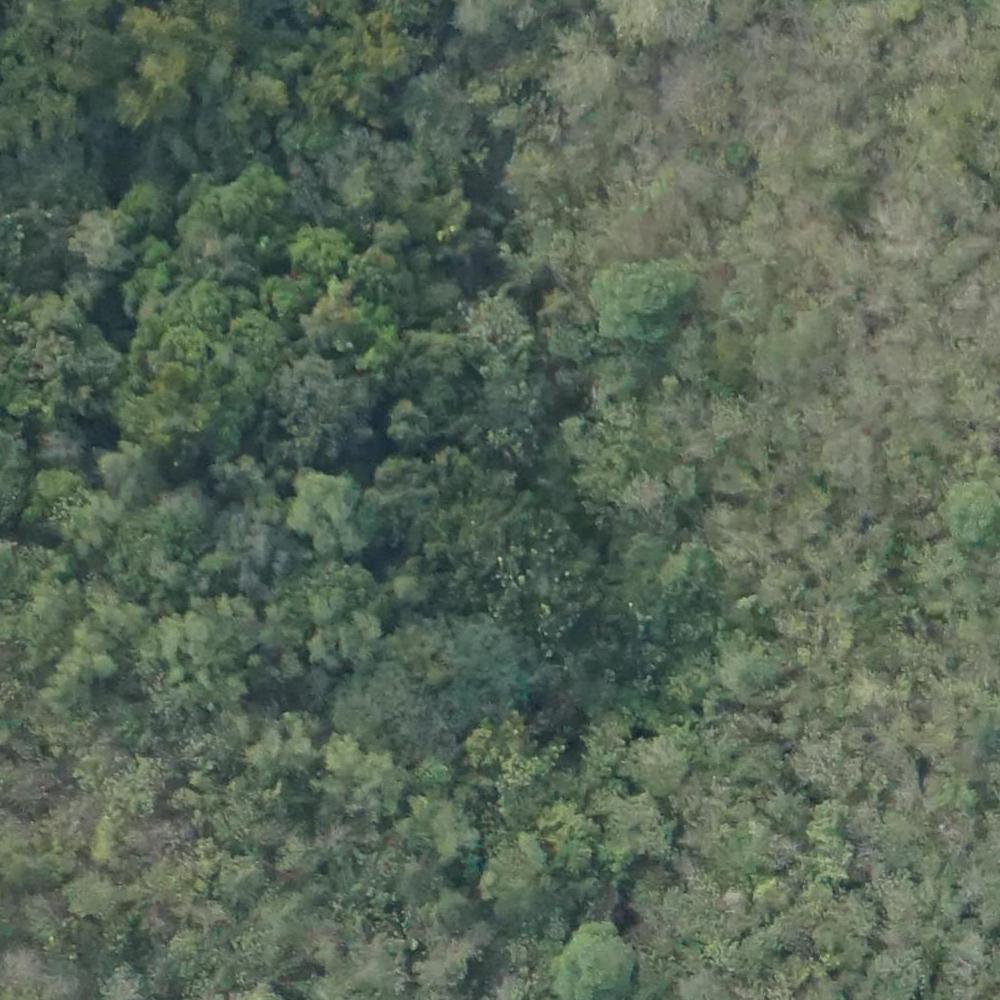tree: (587, 253, 690, 341), (865, 166, 944, 260), (556, 921, 640, 1000), (604, 791, 672, 883), (533, 805, 598, 888), (67, 200, 142, 268), (504, 140, 575, 211), (673, 68, 743, 136), (713, 635, 783, 700), (200, 168, 262, 238), (632, 733, 702, 793), (293, 468, 348, 537), (823, 429, 885, 490), (415, 793, 474, 857), (658, 538, 714, 599), (943, 484, 1000, 542), (295, 222, 358, 273), (256, 709, 313, 765), (102, 442, 161, 496), (615, 467, 670, 524), (215, 852, 271, 906), (382, 402, 425, 449), (373, 218, 408, 259), (392, 565, 424, 605), (420, 756, 446, 788)
